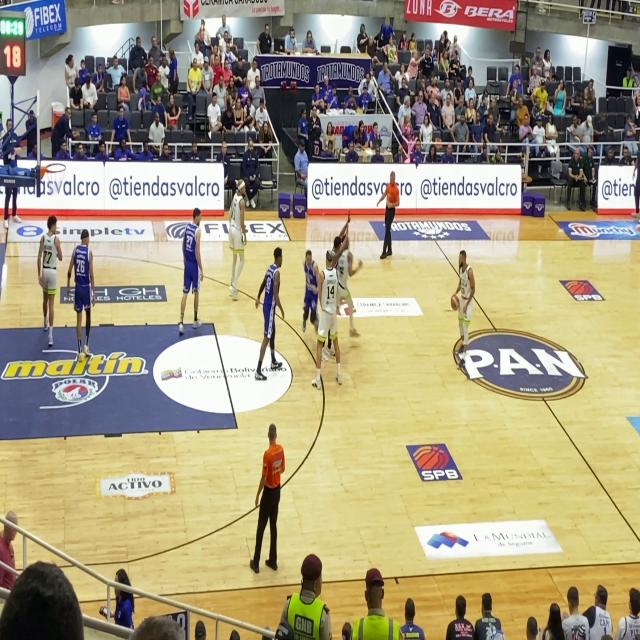Ball: (447, 289, 462, 318)
referee: (247, 414, 287, 577), (376, 167, 404, 271)
team1: (212, 172, 260, 318), (314, 247, 345, 391), (449, 236, 482, 362), (36, 202, 64, 350), (337, 230, 362, 357)
team2: (68, 206, 104, 378), (255, 230, 286, 394), (295, 231, 324, 380), (182, 206, 208, 339)
ubasket: (44, 158, 69, 198)
